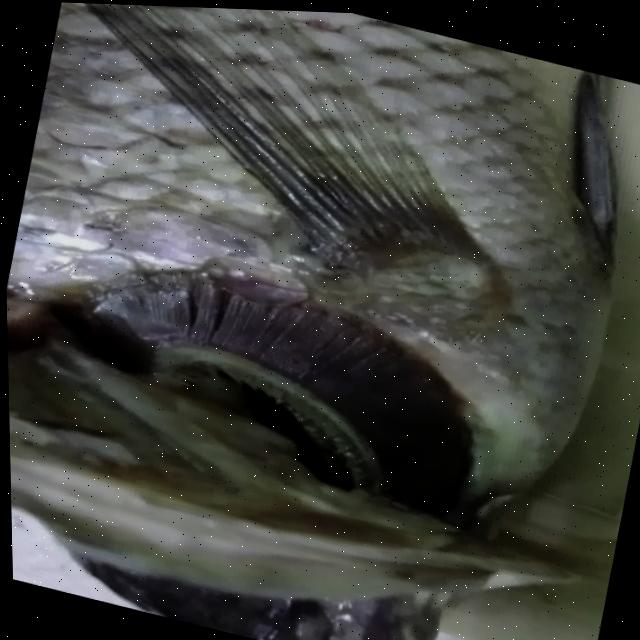Non-Fresh: (22, 227, 516, 522)
